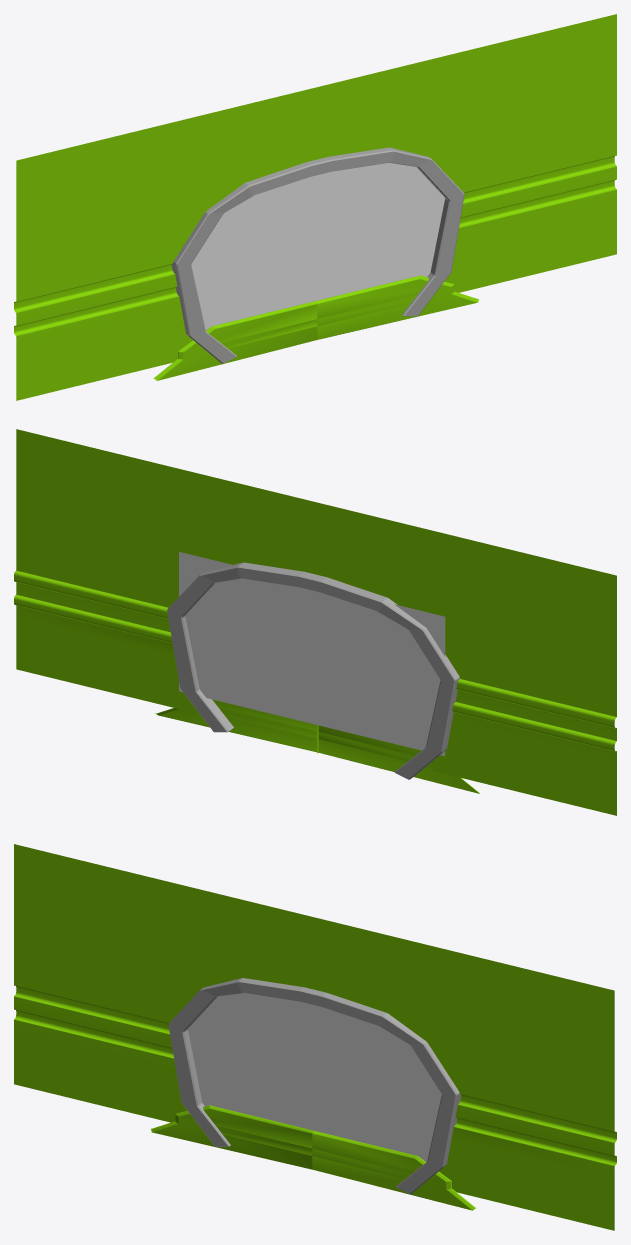
Rendered from WindowScifi.fbx.
3 views of the same model, one above another, from view 1: azimuth 30°, elevation 25°; view 2: azimuth 150°, elevation 25°; view 3: azimuth 330°, elevation 25° (orthographic).
Parts seen in each view (by area): view 1: Window; view 2: Window; view 3: Window.
Boxes of the visible parts, bbox=[...] form: Window: bbox=[14, 14, 616, 400]; Window: bbox=[14, 429, 616, 815]; Window: bbox=[14, 844, 616, 1230].
Bounding box in the file's own units: 14861 × 5987 × 437.
